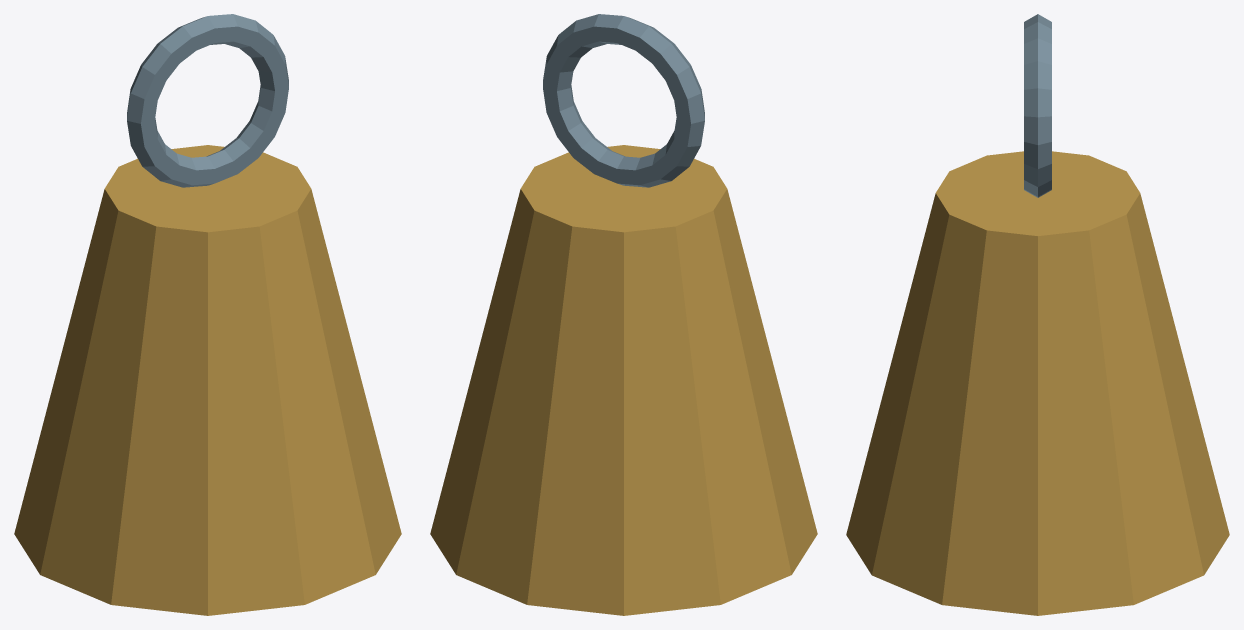
The model's file is equipment-ship-bell.lod0.glb.
The picture shows the model from 3 angles, left to right: view 1: azimuth 30°, elevation 25°; view 2: azimuth 150°, elevation 25°; view 3: azimuth 270°, elevation 25°; orthographic projection.
Parts seen in each view (by area): view 1: equipment-ship-bell__body; view 2: equipment-ship-bell__body; view 3: equipment-ship-bell__body.
Boxes of the visible parts, box(x1,y1,x2,y2) form: equipment-ship-bell__body: box(14, 14, 401, 615); equipment-ship-bell__body: box(430, 14, 817, 615); equipment-ship-bell__body: box(846, 14, 1229, 615).
Bounding box in the file's own units: 0.6 × 0.885 × 0.6.
